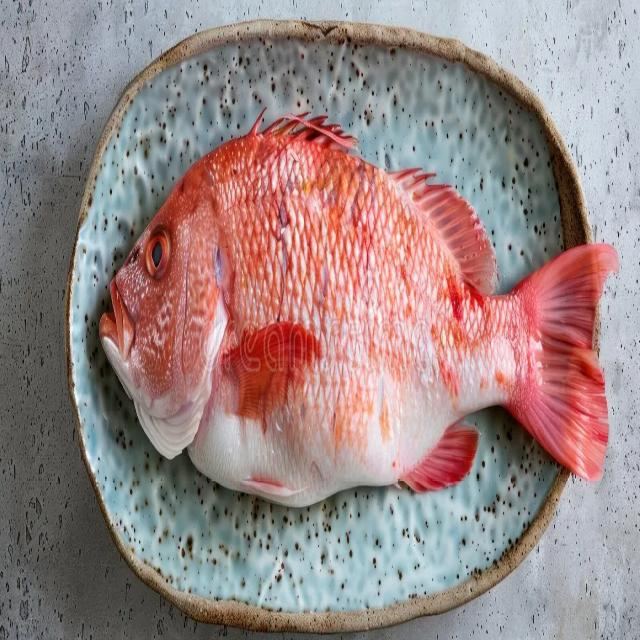Red Snapper: (98, 106, 619, 512)
